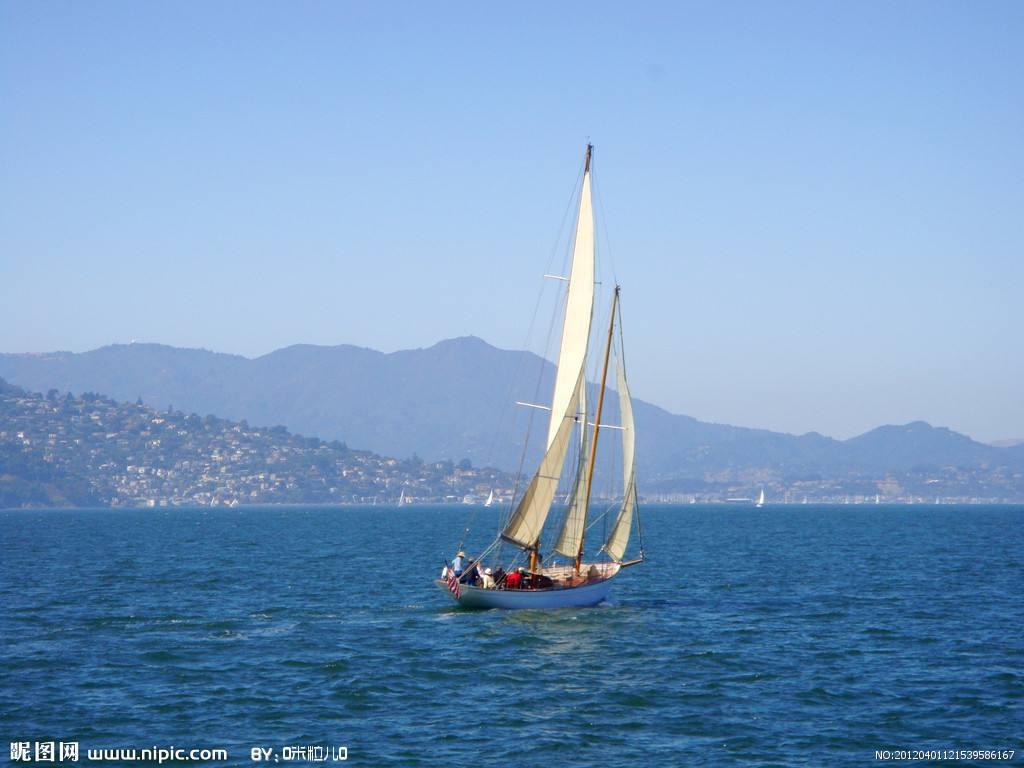fanchuan: (430, 139, 670, 617)
